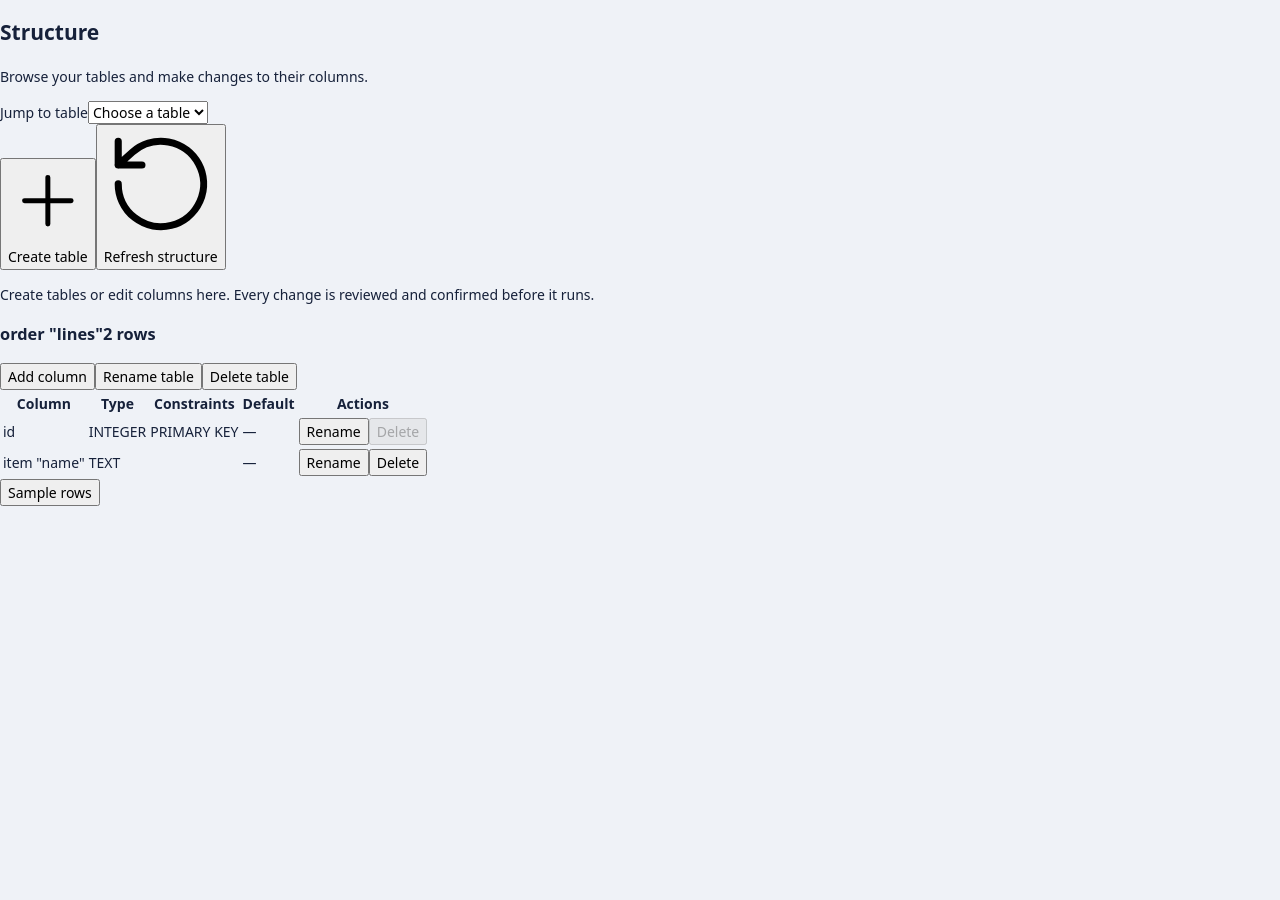
Test: manual structure controls › preserves the draft and explains duplicate names before sending anything
The width and height of the screenshot is (1280, 900).
Later steps or results of the test are not shown.
Click the button "Add column": (48, 376) [0, 362, 95, 390]
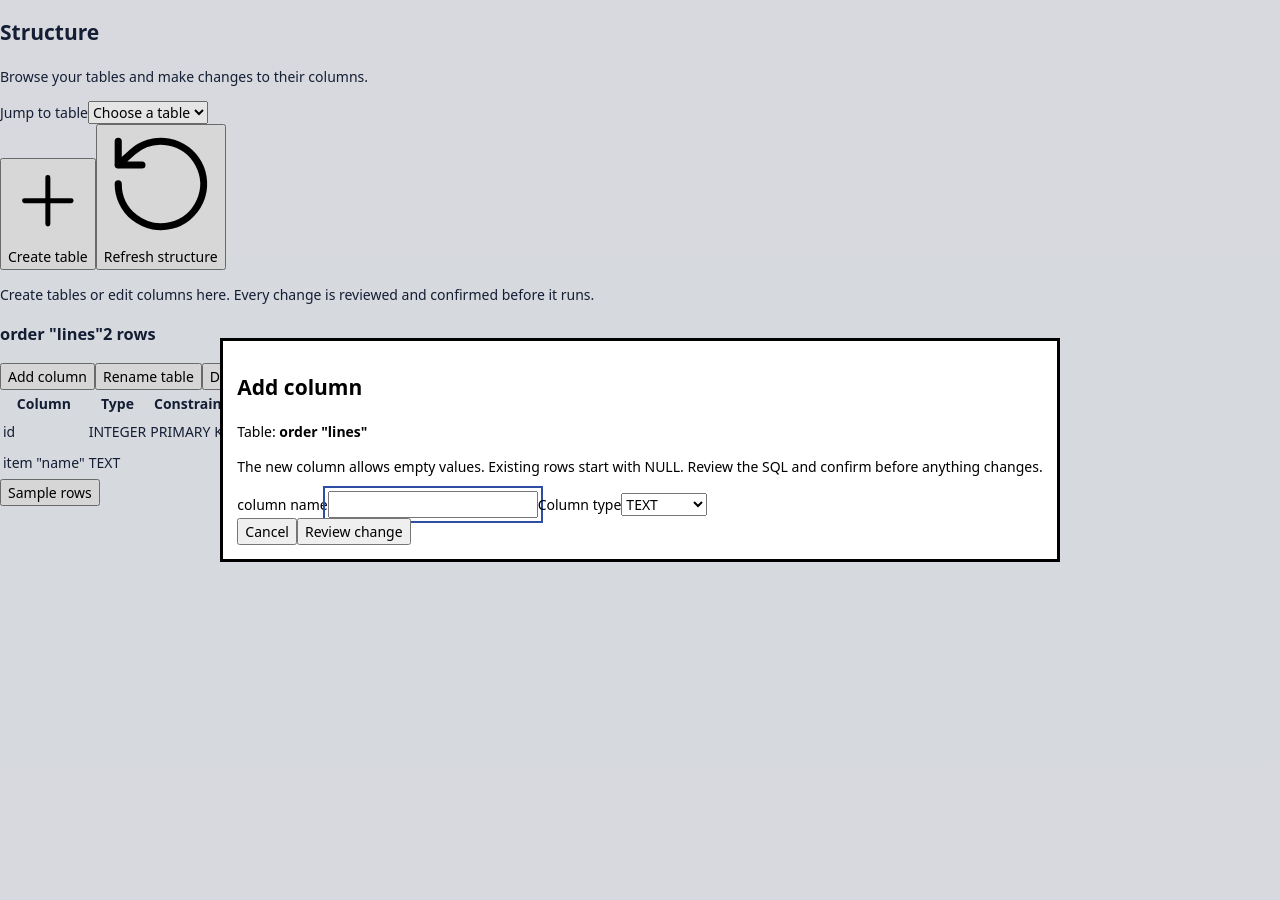
In the field labelled "column name": (433, 505) [328, 491, 538, 518], type "ID"
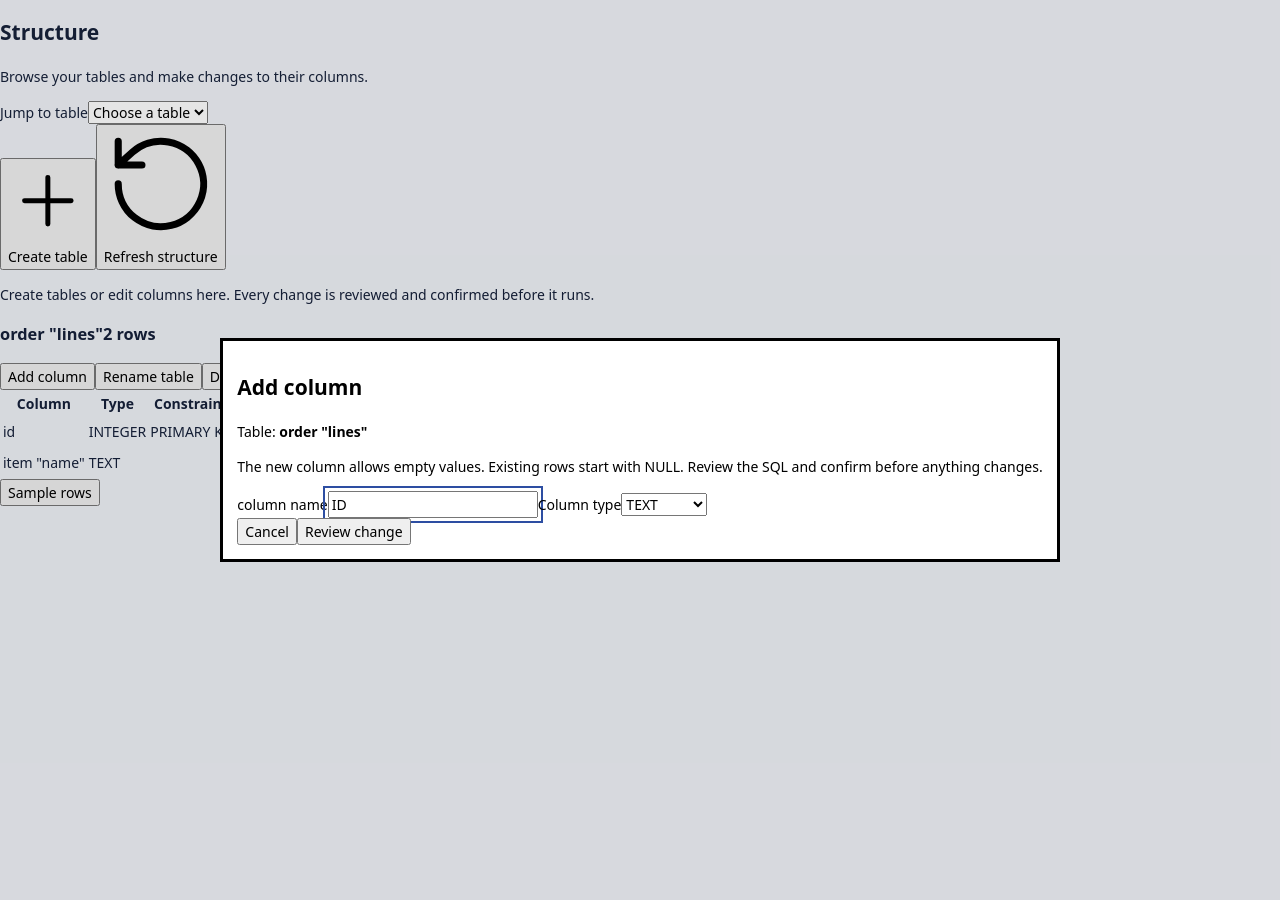
Click the button "Review change": (354, 532) [297, 518, 411, 545]
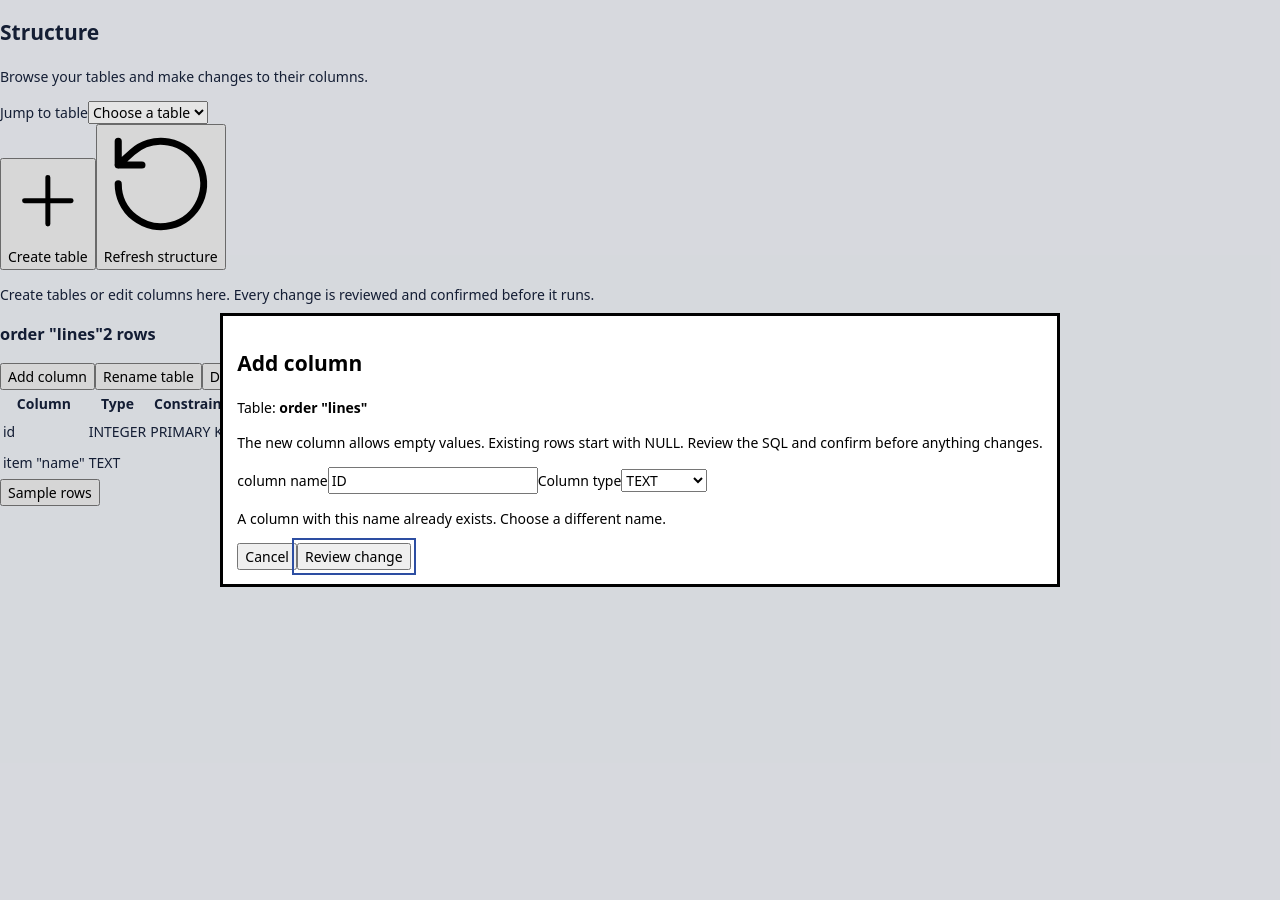
Check: the message shows "column with this name already exists", box [237, 509, 666, 528]
